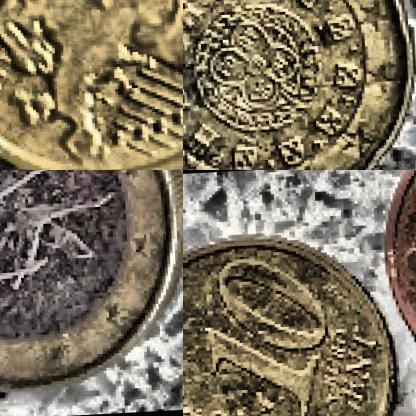coin: (183, 221, 400, 415), (0, 170, 182, 395), (183, 0, 415, 169), (0, 0, 182, 169)
